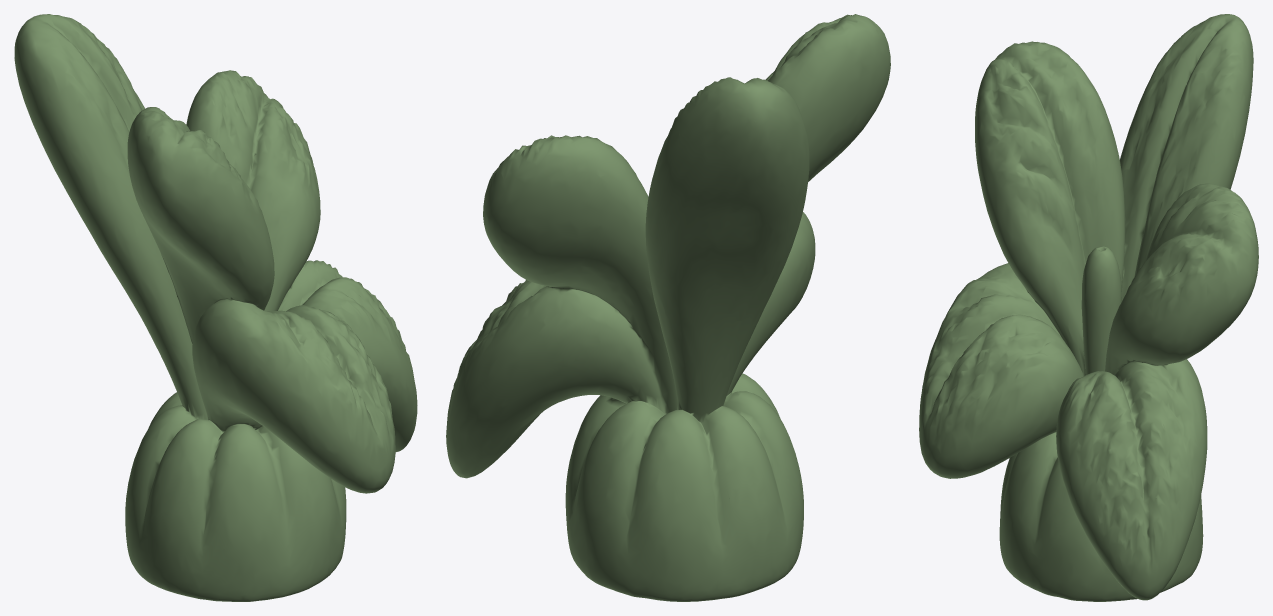
Rendered from sage-rosette.glb.
3 renders of one model, left to right at view 1: azimuth 30°, elevation 25°; view 2: azimuth 150°, elevation 25°; view 3: azimuth 270°, elevation 25°, orthographic. The views are drawn at different scales.
Parts seen in each view (by area): view 1: tripo_printable_source; view 2: tripo_printable_source; view 3: tripo_printable_source.
Part boxes in pixels (x1,y1,x2,y2): tripo_printable_source: [14, 14, 417, 601]; tripo_printable_source: [446, 14, 890, 601]; tripo_printable_source: [919, 14, 1258, 601].
Size of the model in its own units: 70 by 100 by 63.26.
